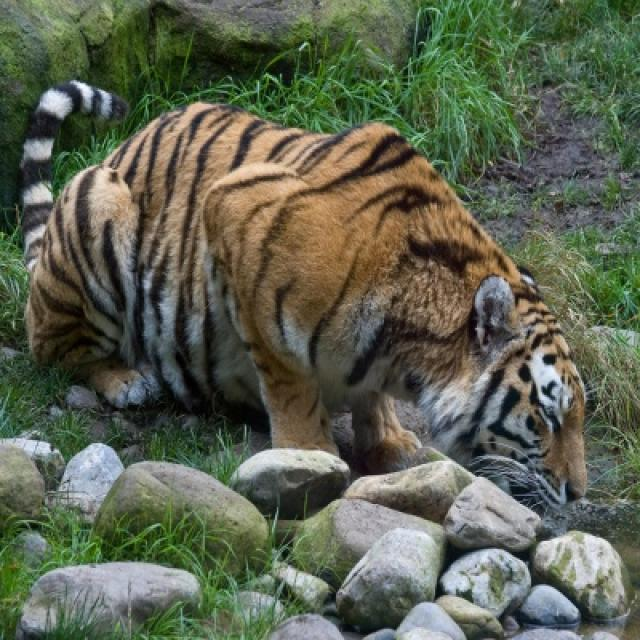Tiger: (21, 83, 584, 502)
